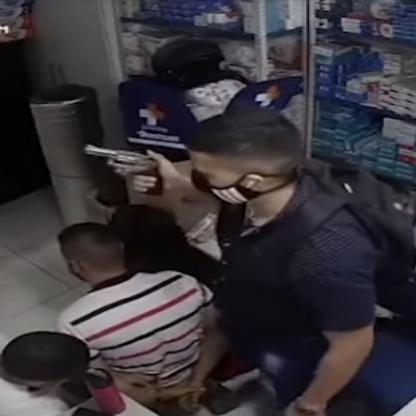criminal: (82, 109, 380, 416)
weapon: (82, 140, 166, 198)
